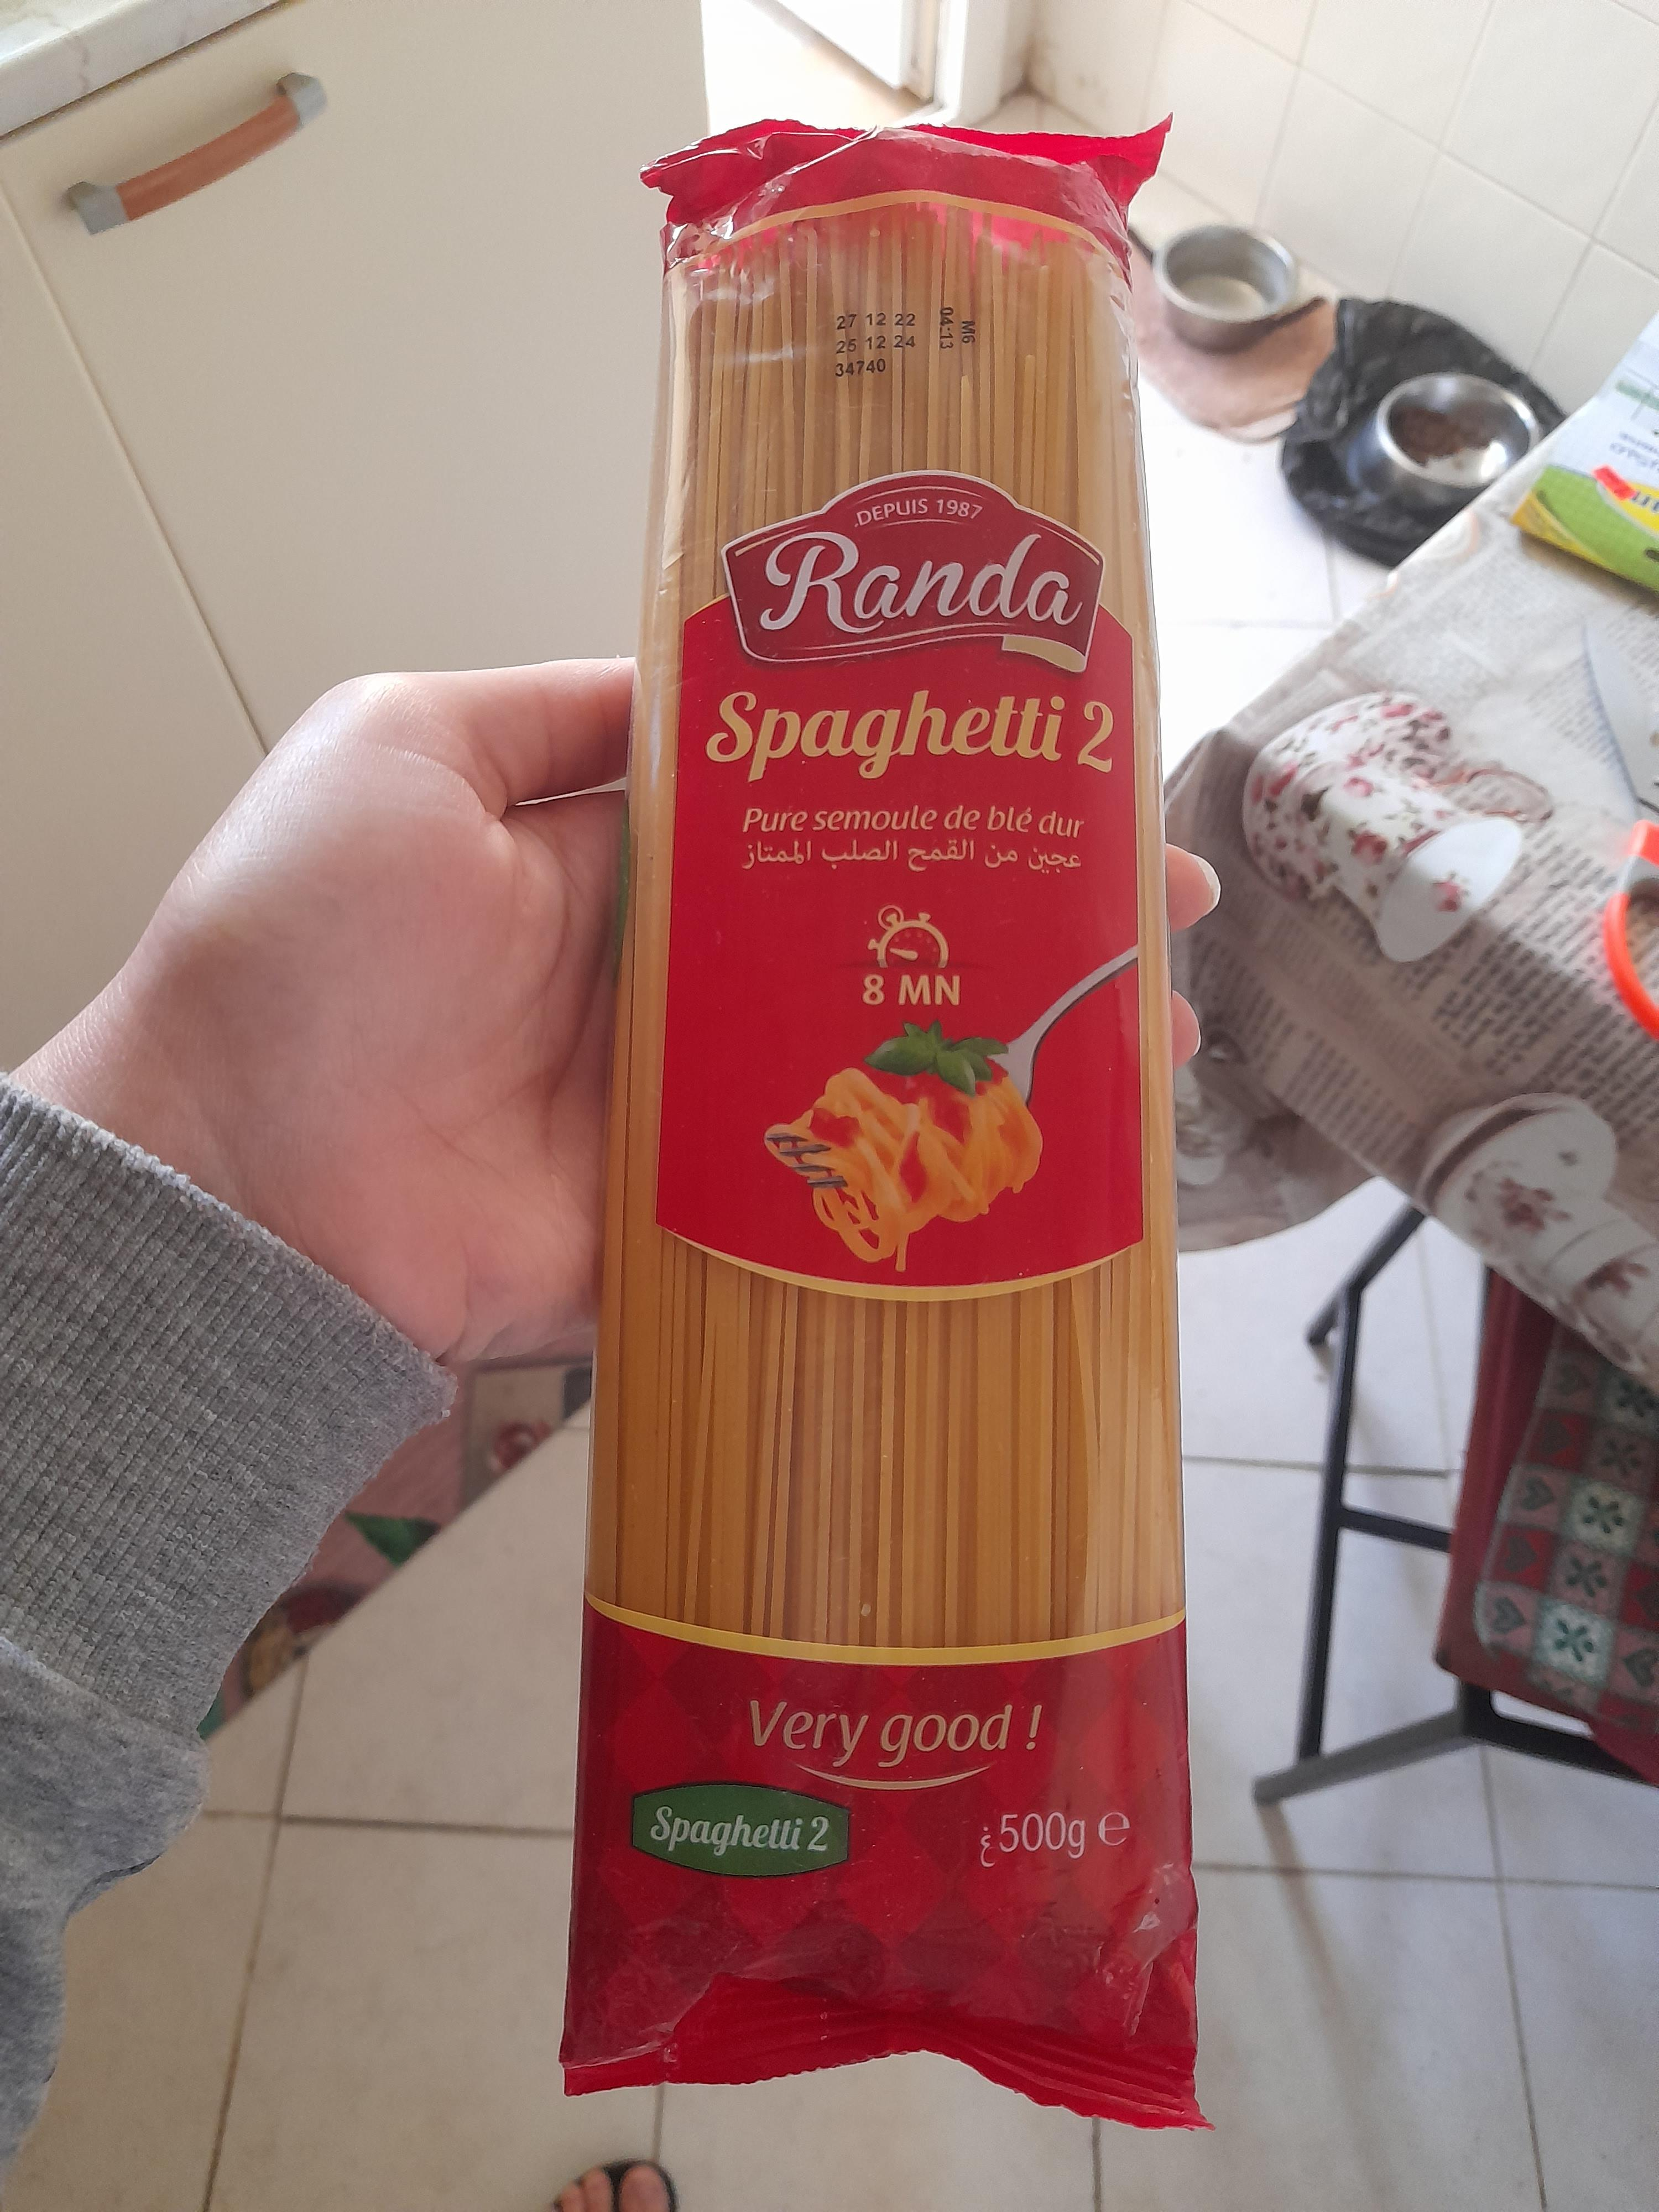Spaghetti: (465, 223, 885, 2212)
